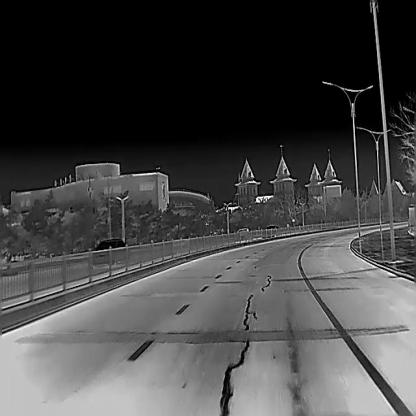car: (91, 237, 128, 265), (262, 224, 278, 238), (236, 228, 248, 242)
